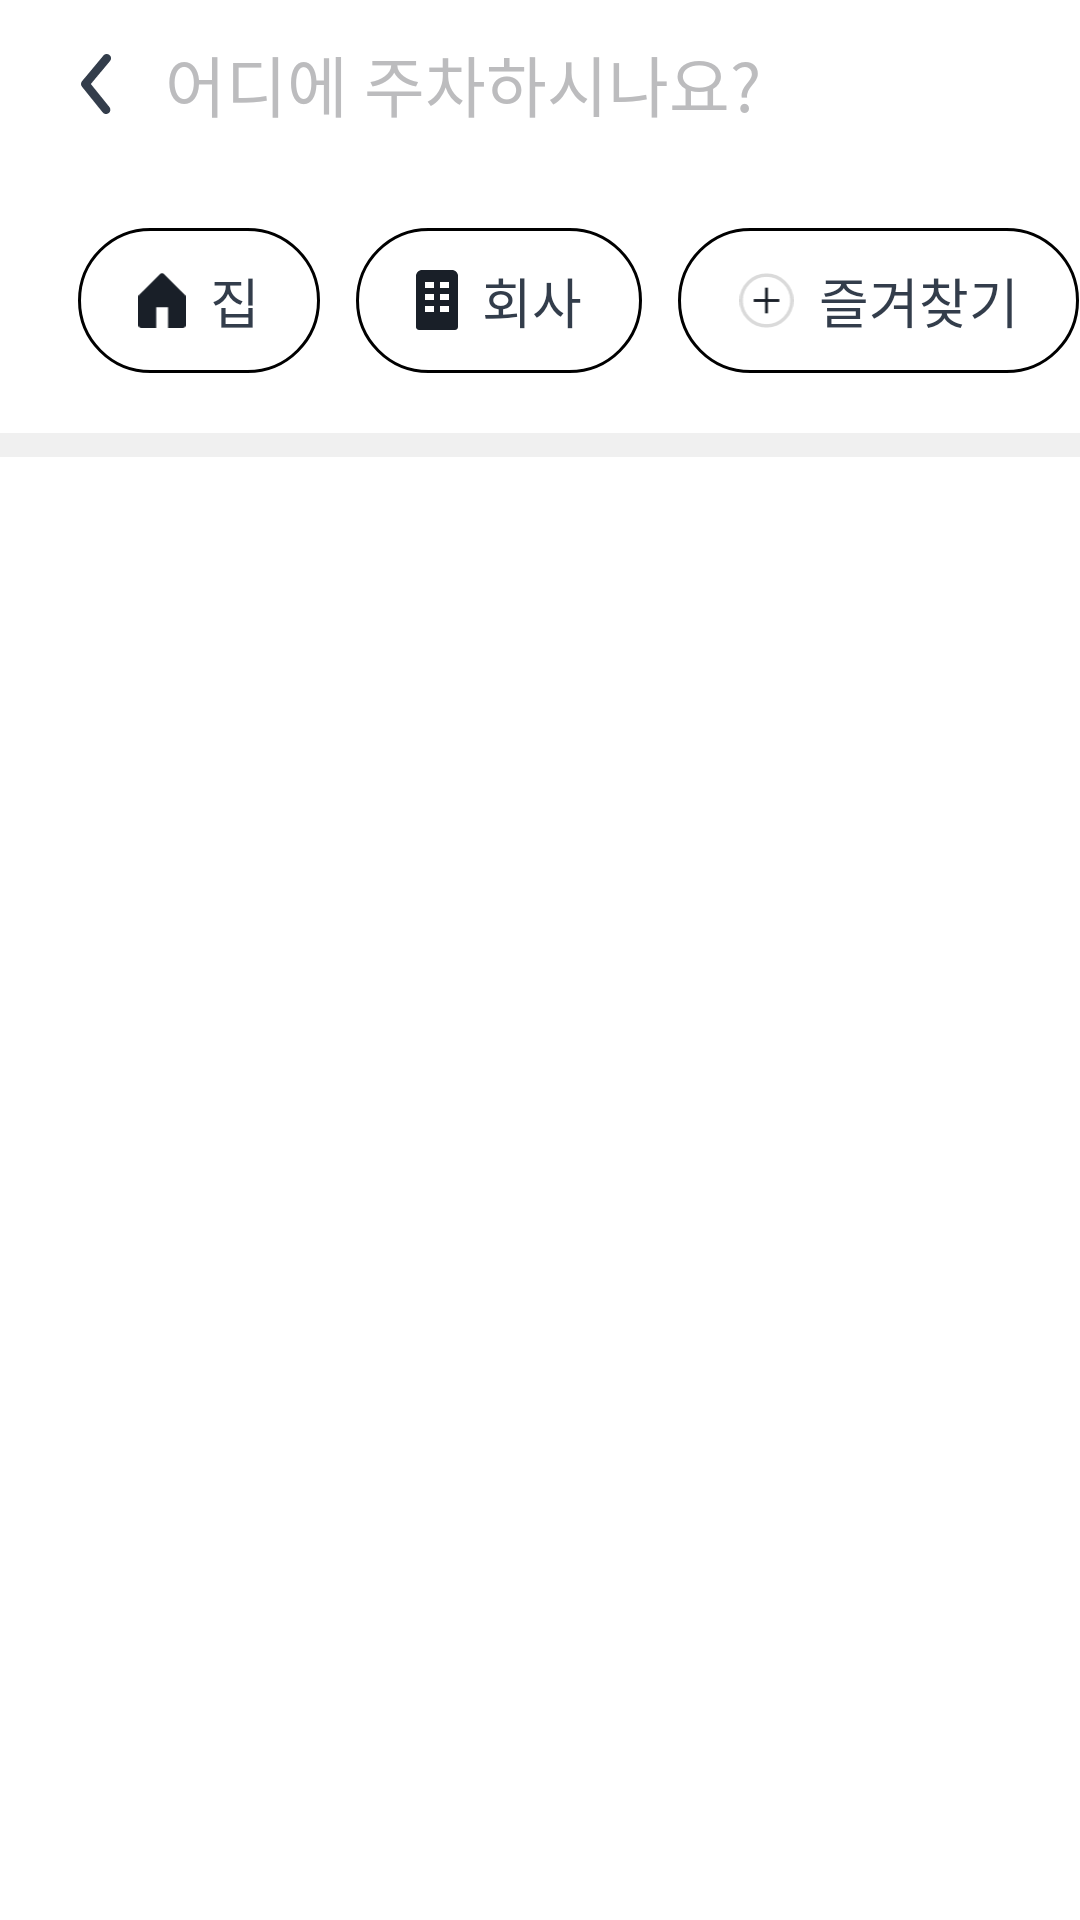

Where to tap for icons on this 1080w x 1920h app screen, as (x,y):
add: (766,300)
back: (96,84)
company: (437,300)
home: (162,300)
